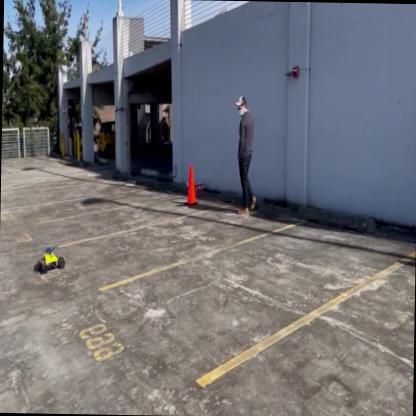cone: (180, 158, 198, 208)
mushr_car: (32, 242, 66, 276)
